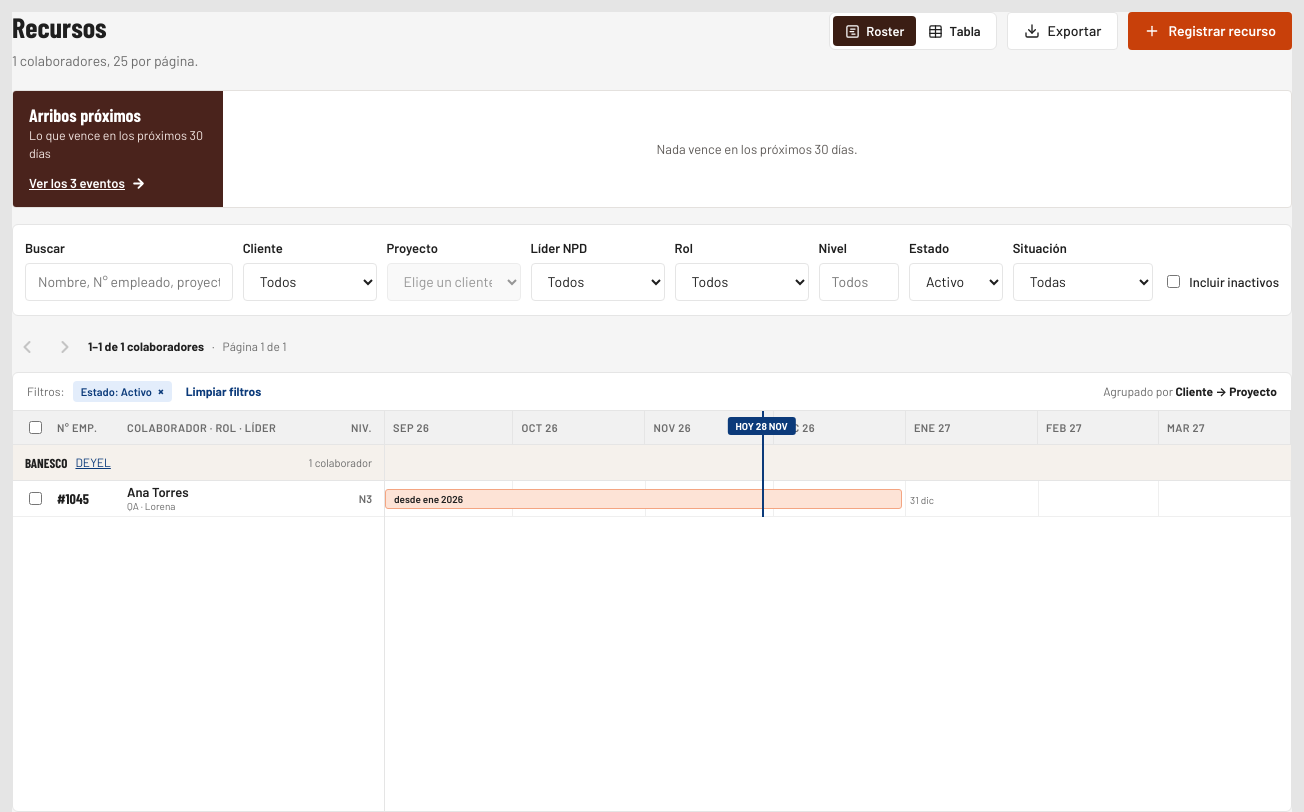
Test: ResourcesPage (HU-03) › selects a row with its checkbox without opening the detail drawer
Click the checkbox named "Seleccionar Ana Torres" at (36, 498), box left=29, top=492, right=42, bottom=505
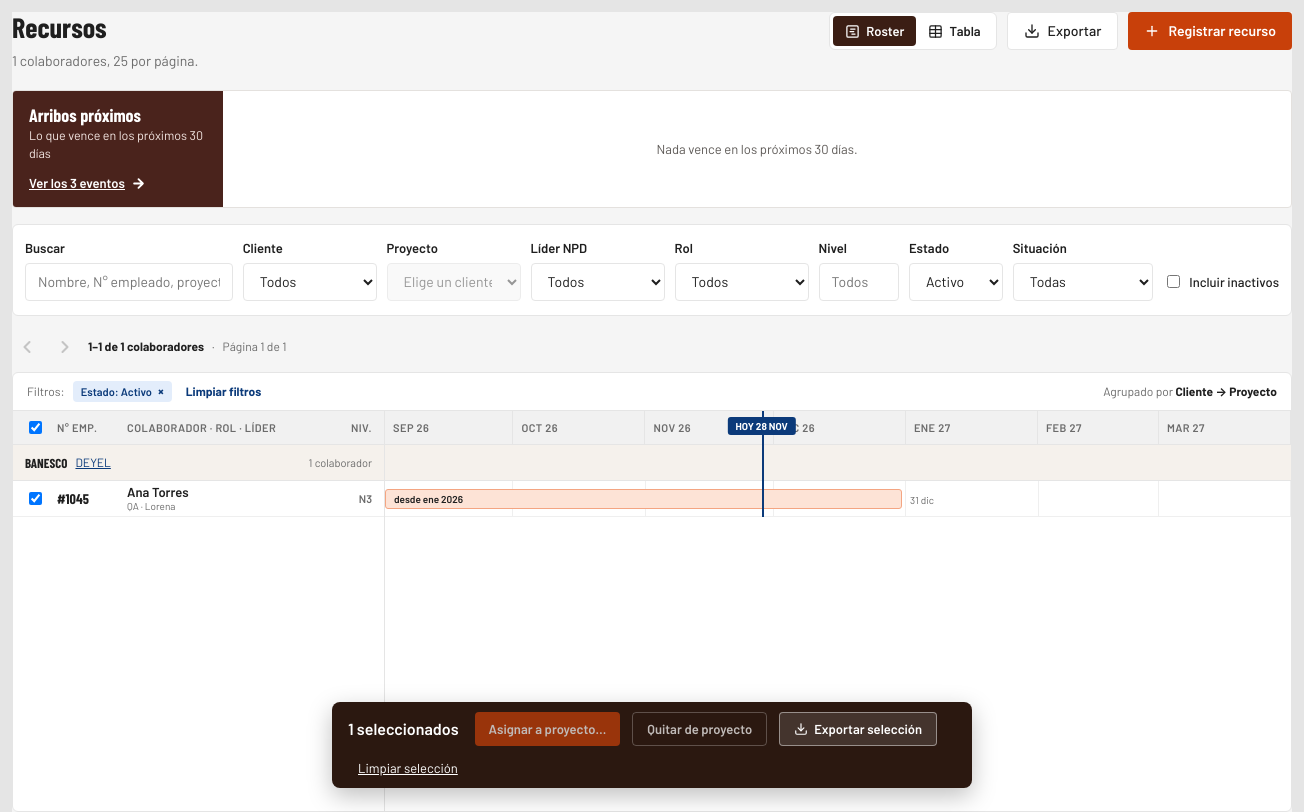
Check: the text "1 seleccionados" is shown, box left=348, top=718, right=459, bottom=740
